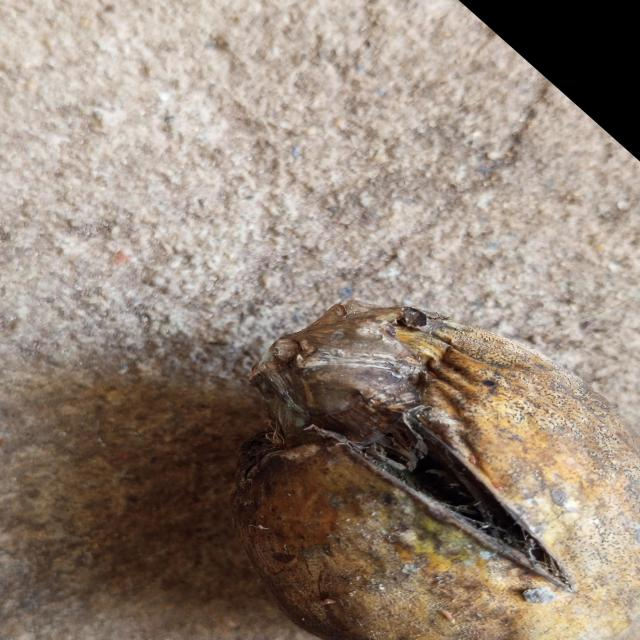damaged: (232, 301, 640, 640)
